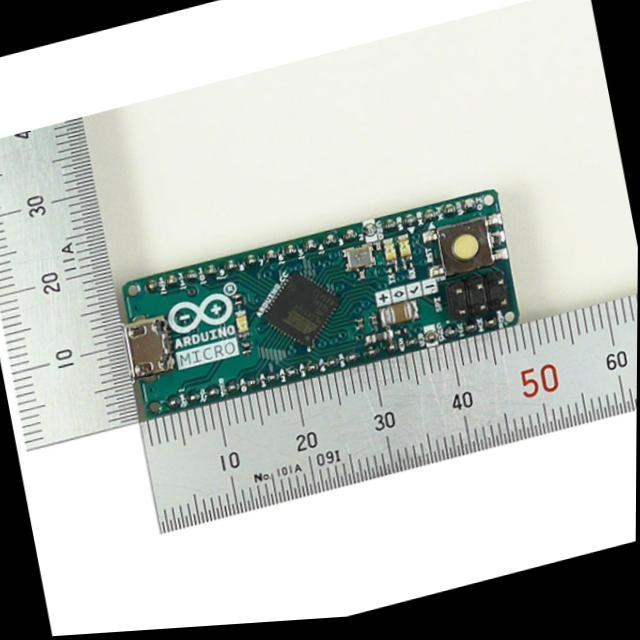Arduino-Micro: (124, 191, 519, 419)
